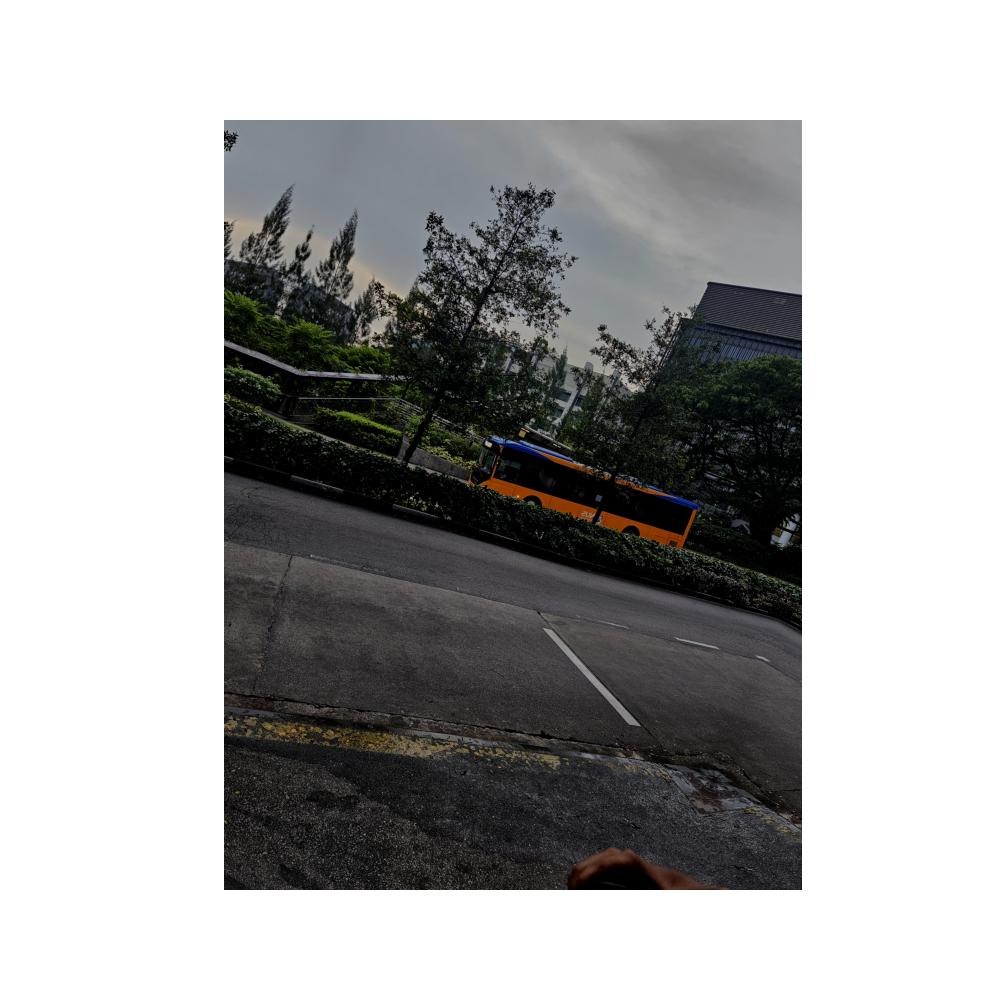bus: (471, 433, 702, 561)
